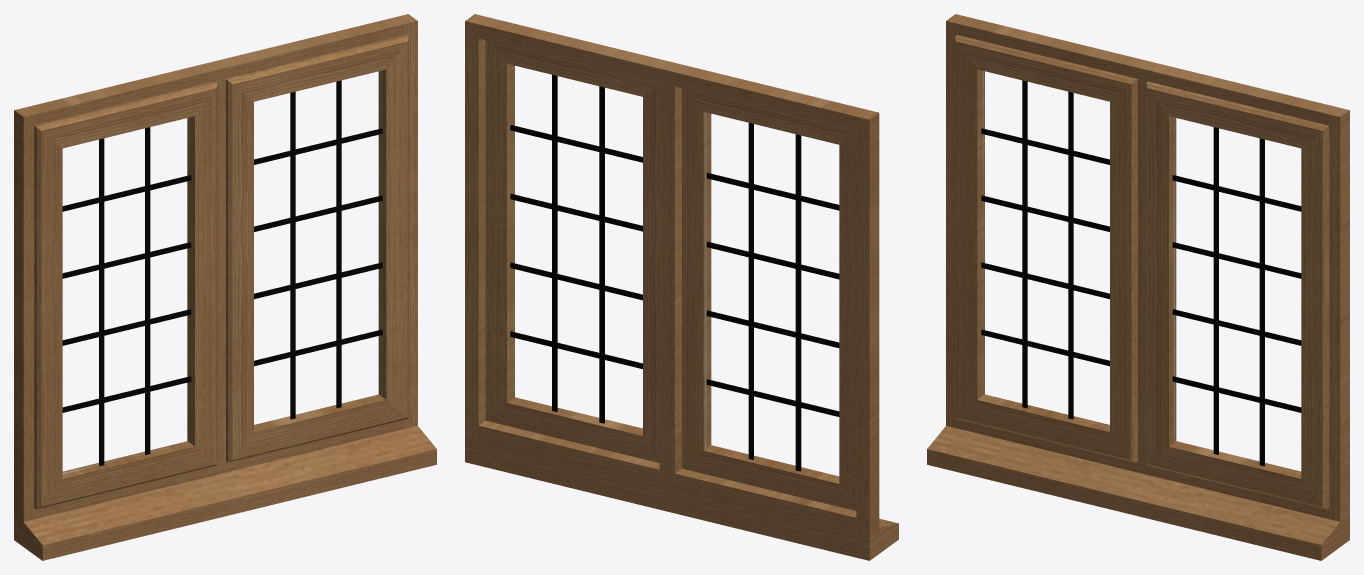
Rendered from window 2.fbx.
The picture shows the model from 3 angles, left to right: view 1: azimuth 30°, elevation 25°; view 2: azimuth 150°, elevation 25°; view 3: azimuth 330°, elevation 25°; orthographic projection. The views are drawn at different scales.
Visible parts, largest first — view 1: window2_dxf1; view 2: window2_dxf1; view 3: window2_dxf1.
Part boxes in pixels (box(x1,y1,x2,y2)): window2_dxf1: box(14, 14, 436, 560); window2_dxf1: box(465, 14, 898, 560); window2_dxf1: box(927, 14, 1349, 560).
Size of the model in its own units: 1.2 by 1.25 by 0.15.
